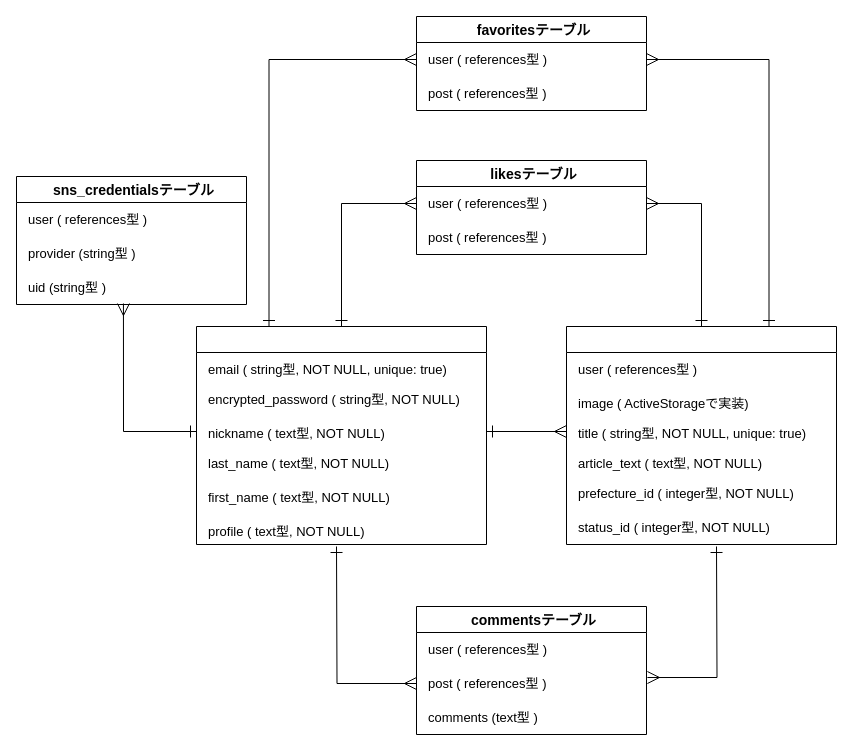
Some shapes in this 853 by 751 pixel diagram are drawn without their labels. Here are the shapes that lost their labels. From the top down, the box of each, then its label:
(196, 326, 486, 544): usersテーブル
(566, 326, 836, 544): postsテーブル
